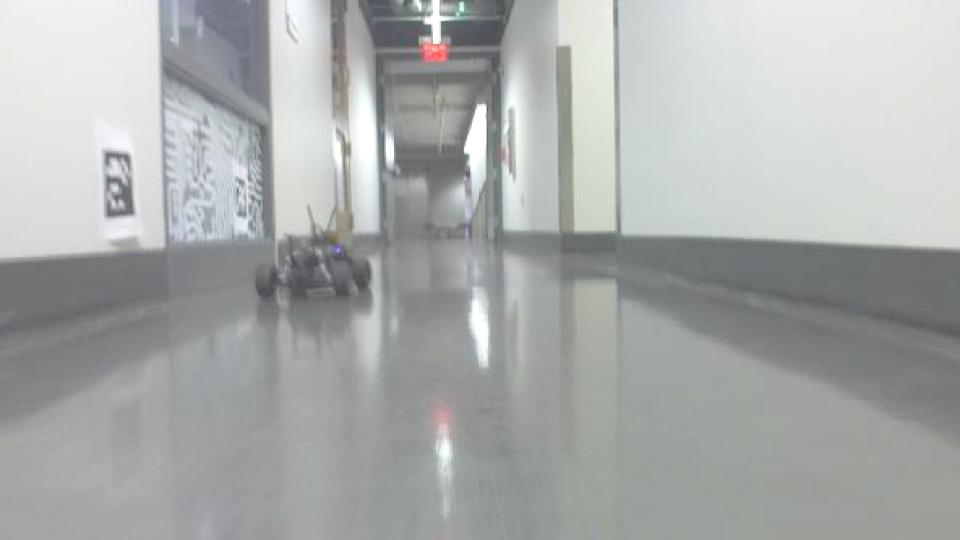car: (251, 201, 378, 306)
